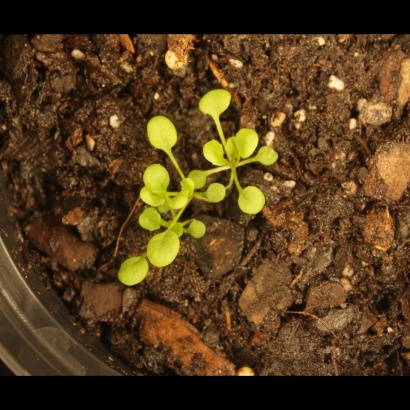leaf: (199, 83, 235, 120), (147, 230, 181, 269), (146, 115, 180, 152), (118, 255, 150, 288), (236, 186, 267, 216), (143, 164, 174, 194), (236, 128, 259, 161), (202, 139, 226, 170), (222, 135, 245, 165), (139, 186, 167, 210), (138, 207, 164, 232), (257, 144, 281, 169), (205, 181, 228, 206), (169, 189, 192, 214), (188, 217, 211, 240), (176, 174, 199, 197), (187, 167, 210, 190)
